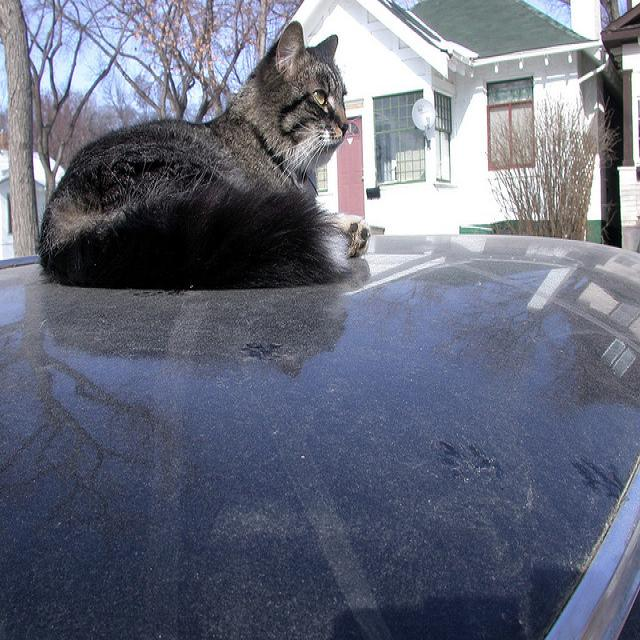Vehicle: (1, 229, 640, 639)
